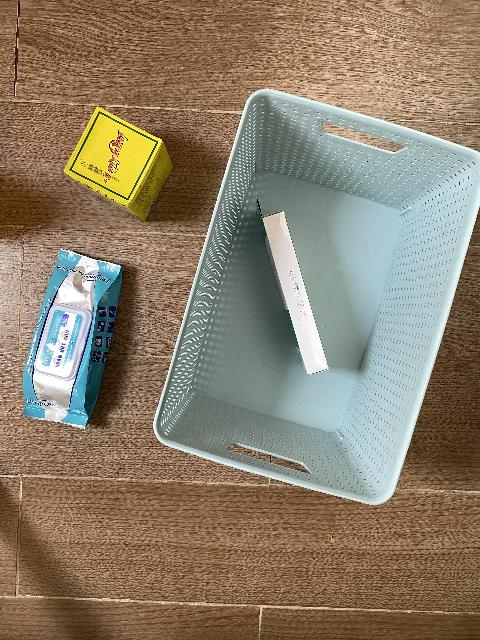4D_medical_face-mask: (255, 196, 330, 376)
Let-green_alcohol_wipes: (22, 248, 123, 430)
cart: (153, 88, 480, 506)
luong_kho: (63, 106, 173, 223)
